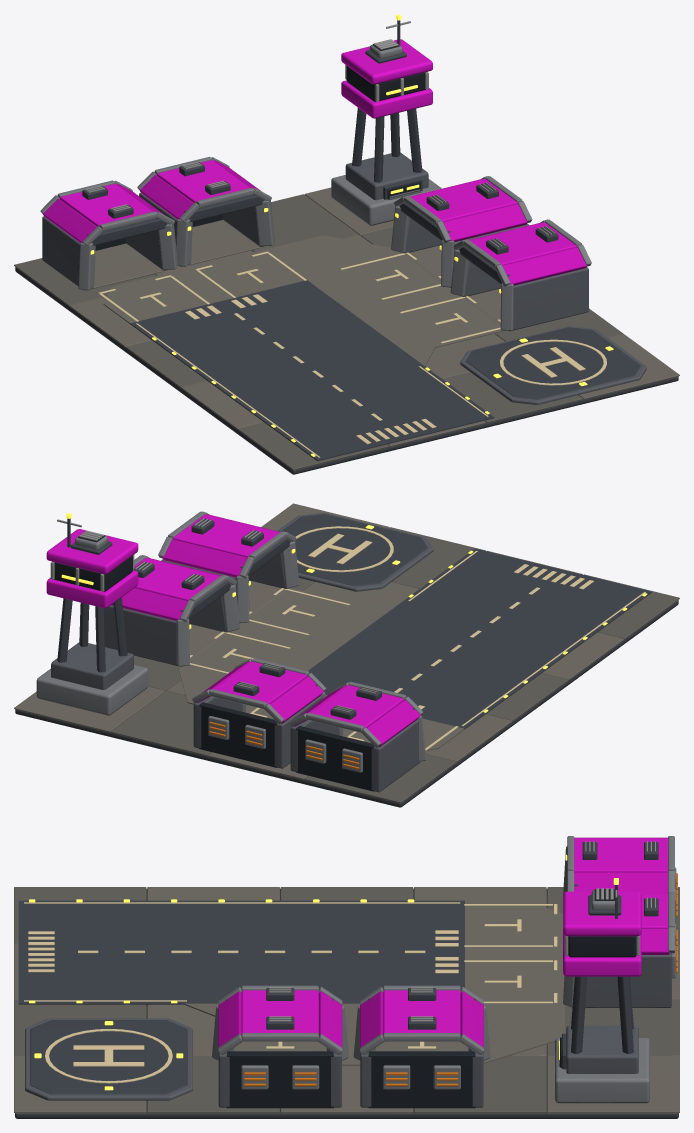
File: airfield.glb
3 renders of one model, top to bottom at view 1: azimuth 30°, elevation 25°; view 2: azimuth 150°, elevation 25°; view 3: azimuth 270°, elevation 25°, orthographic. The views are drawn at different scales.
Visible parts, largest first — view 1: Airfield.001; view 2: Airfield.001; view 3: Airfield.001.
Boxes of the visible parts, x1,y1,x2,y2 form: Airfield.001: (14, 14, 679, 474); Airfield.001: (14, 503, 679, 807); Airfield.001: (14, 836, 679, 1118).
Bounding box in the file's own units: 7.99 × 3.72 × 9.99.
